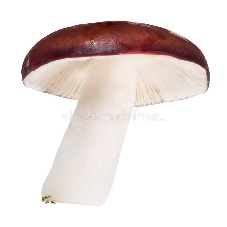mushroom: (20, 20, 210, 209)
